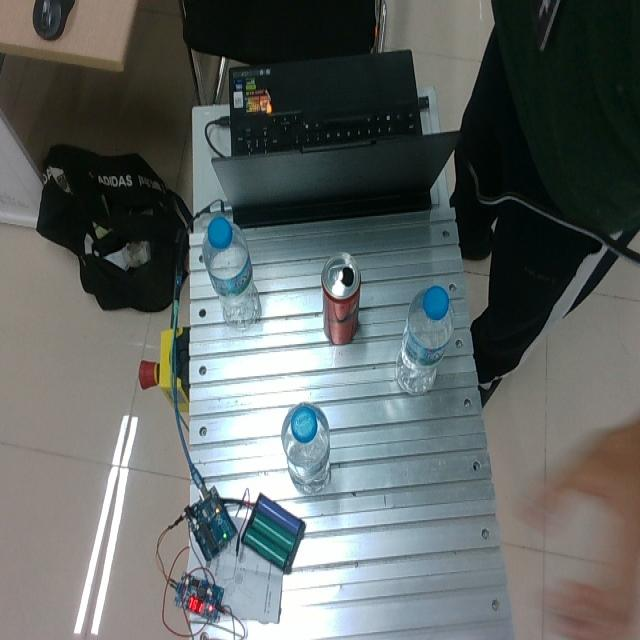coca: (321, 252, 362, 345)
lavie: (202, 214, 261, 330), (394, 284, 455, 396), (281, 402, 330, 494)
